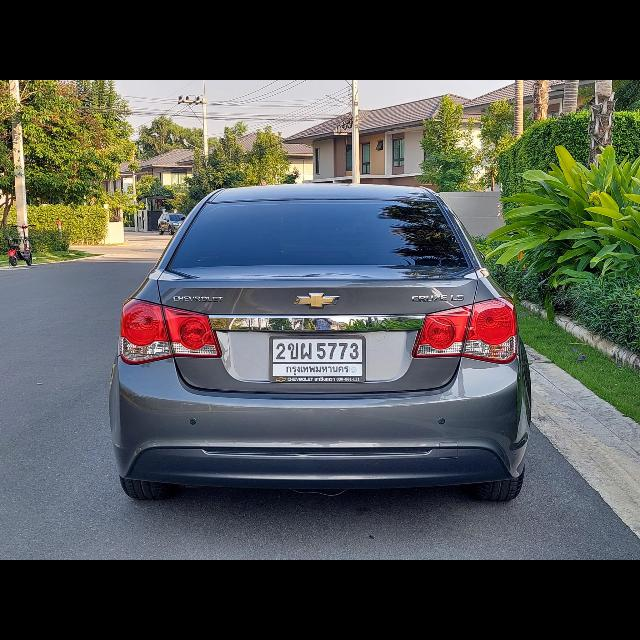cars: (93, 170, 552, 510)
